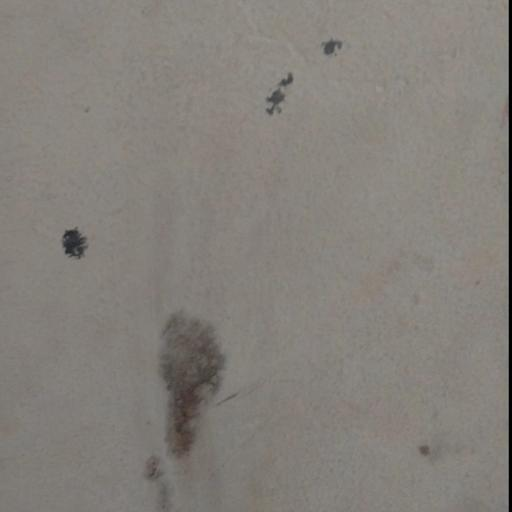stain: (112, 302, 250, 512), (244, 41, 309, 144), (400, 419, 452, 485), (52, 213, 101, 271), (317, 29, 347, 64)
